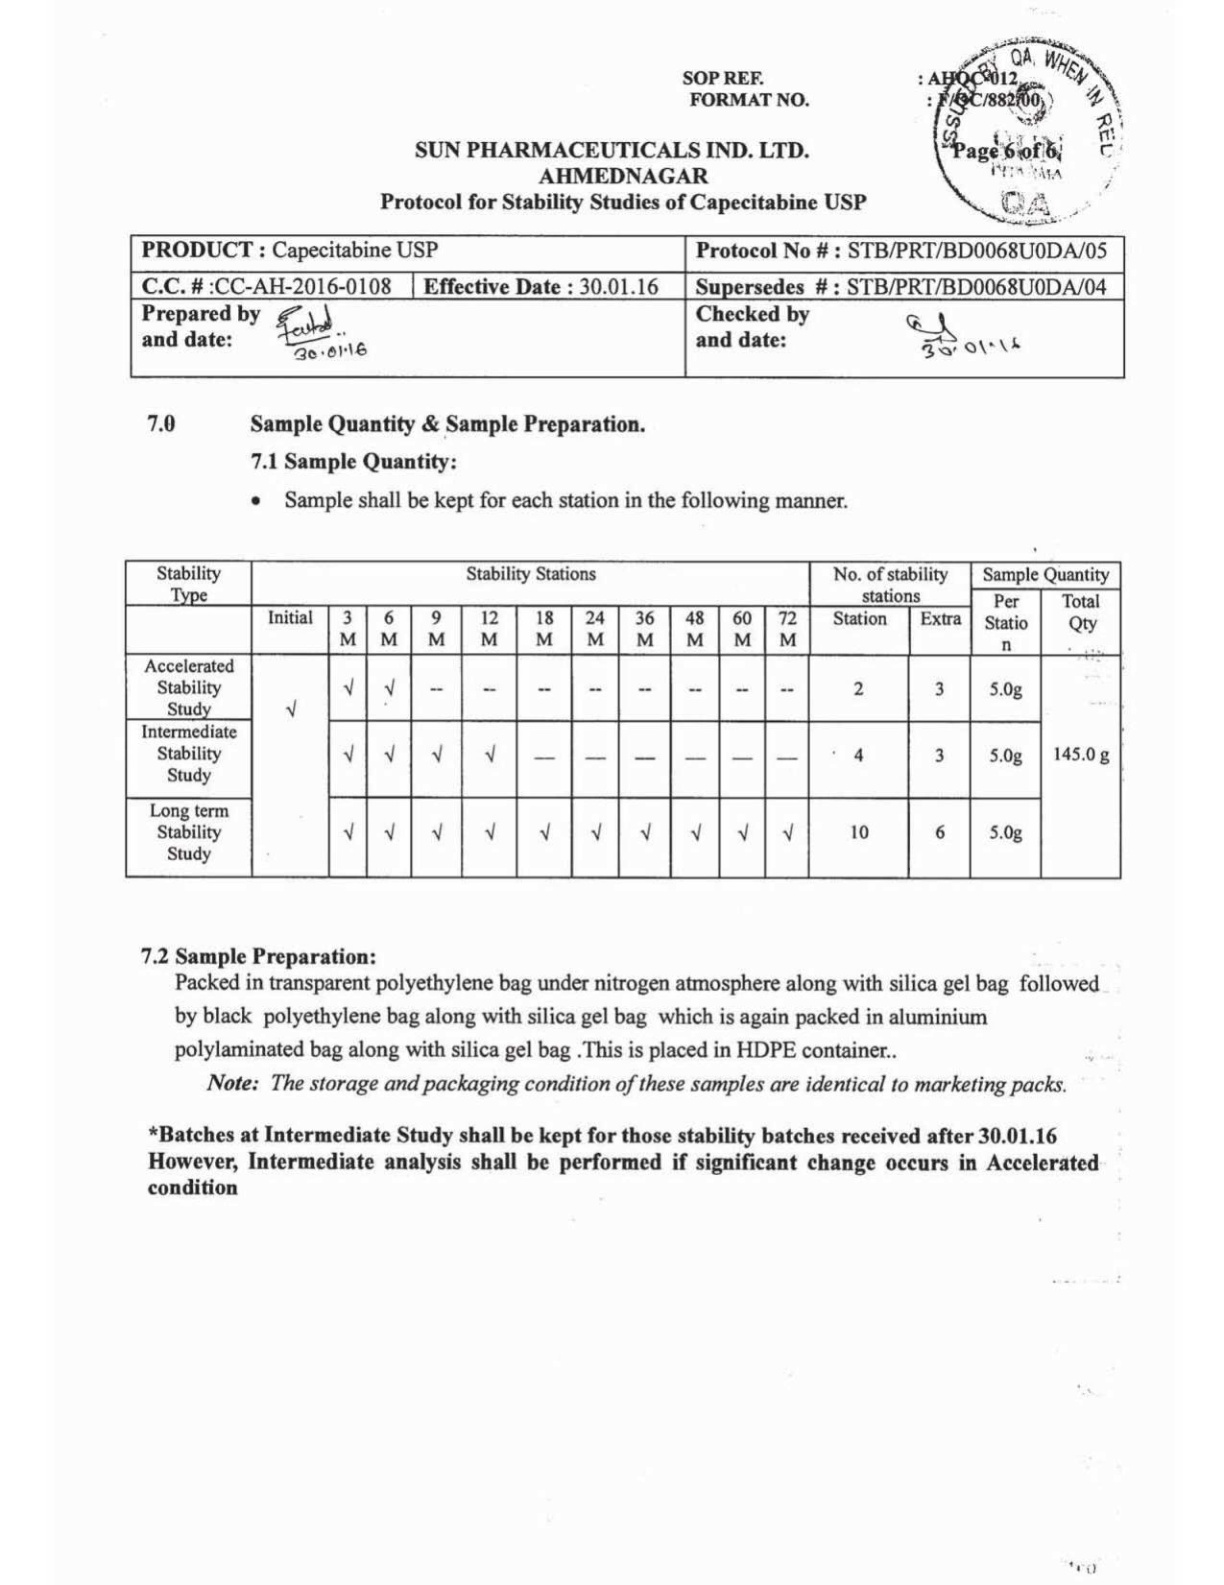full_lined: (129, 233, 1126, 379)
merged_cells: (123, 557, 1124, 882)
